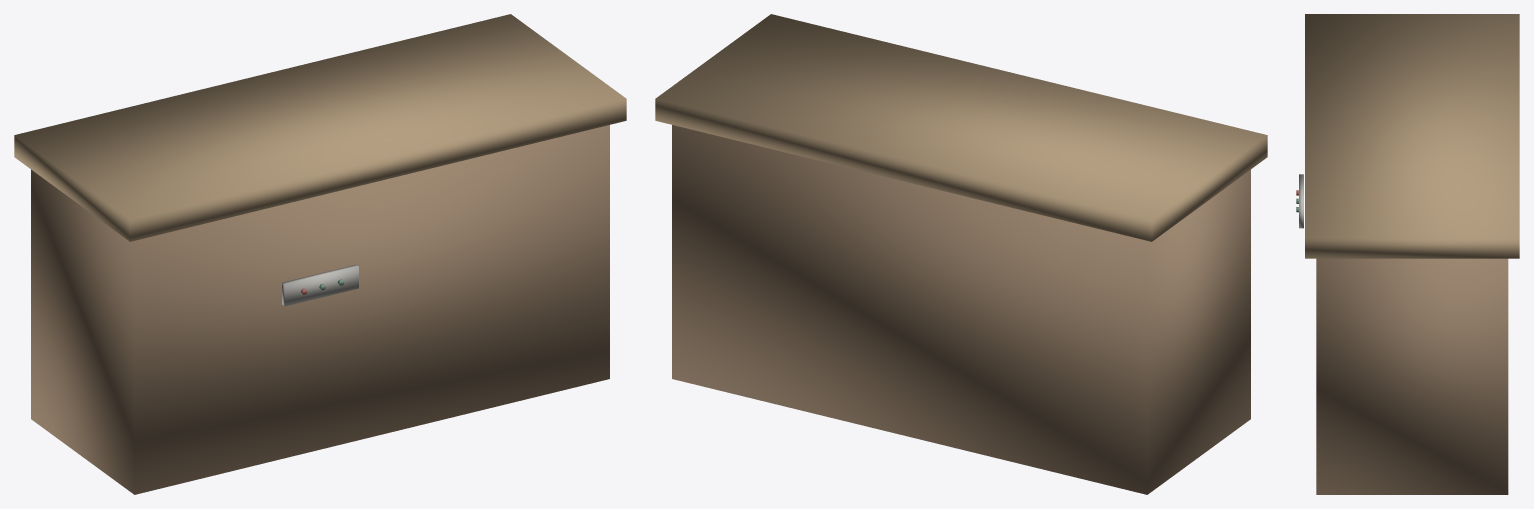
File: clinic_reception_counter__reinforced.glb
3 views of the same model, side by side, from view 1: azimuth 30°, elevation 25°; view 2: azimuth 150°, elevation 25°; view 3: azimuth 270°, elevation 25° (orthographic). The views are drawn at different scales.
Parts seen in each view (by area): view 1: world; view 2: world; view 3: world.
Boxes of the visible parts, x1,y1,x2,y2 form: world: (14,14,626,494); world: (655,14,1267,494); world: (1296,14,1519,494).
Bounding box in the file's own units: 1.94 × 1.05 × 0.8147.
